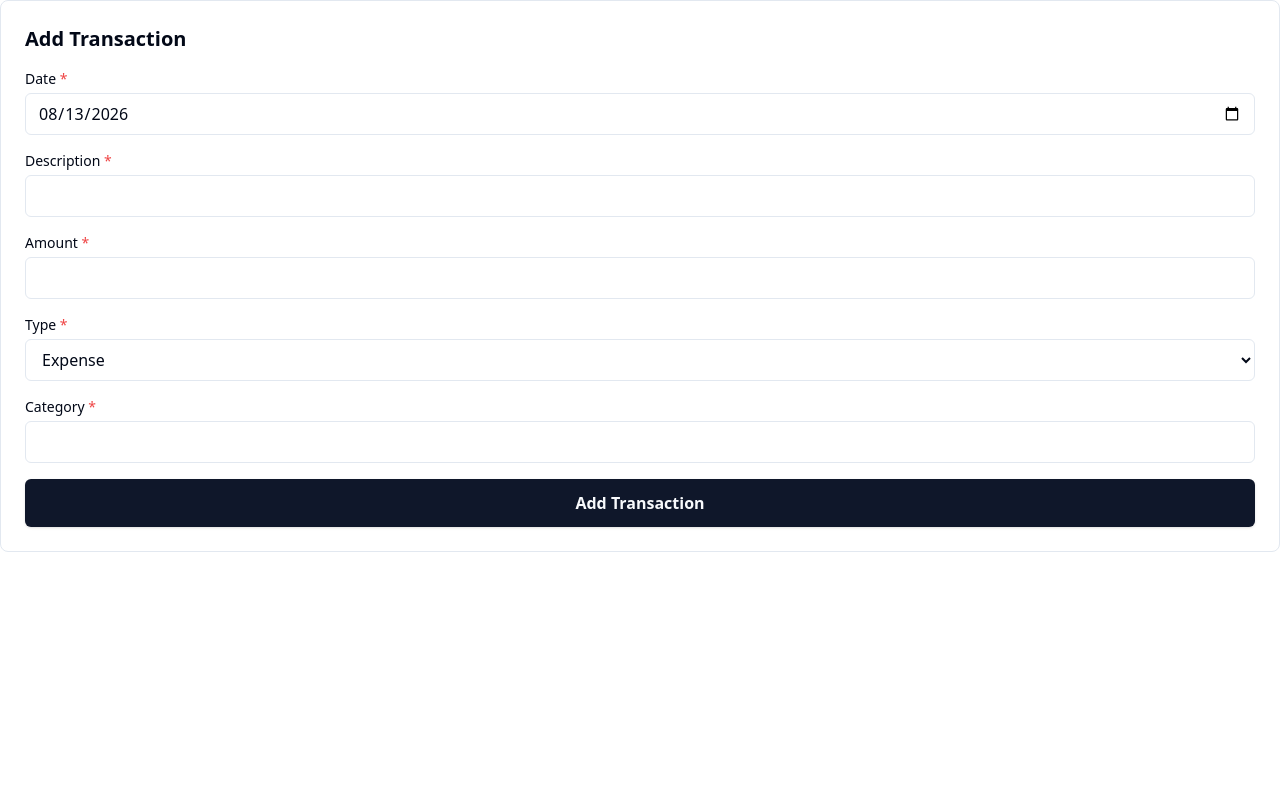
Test case: TransactionForm › validates invalid amounts
The width and height of the screenshot is (1280, 800).
// Clear and leave empty
Clear the number field labelled "Amount *" at (640, 278), box [25, 257, 1255, 299]
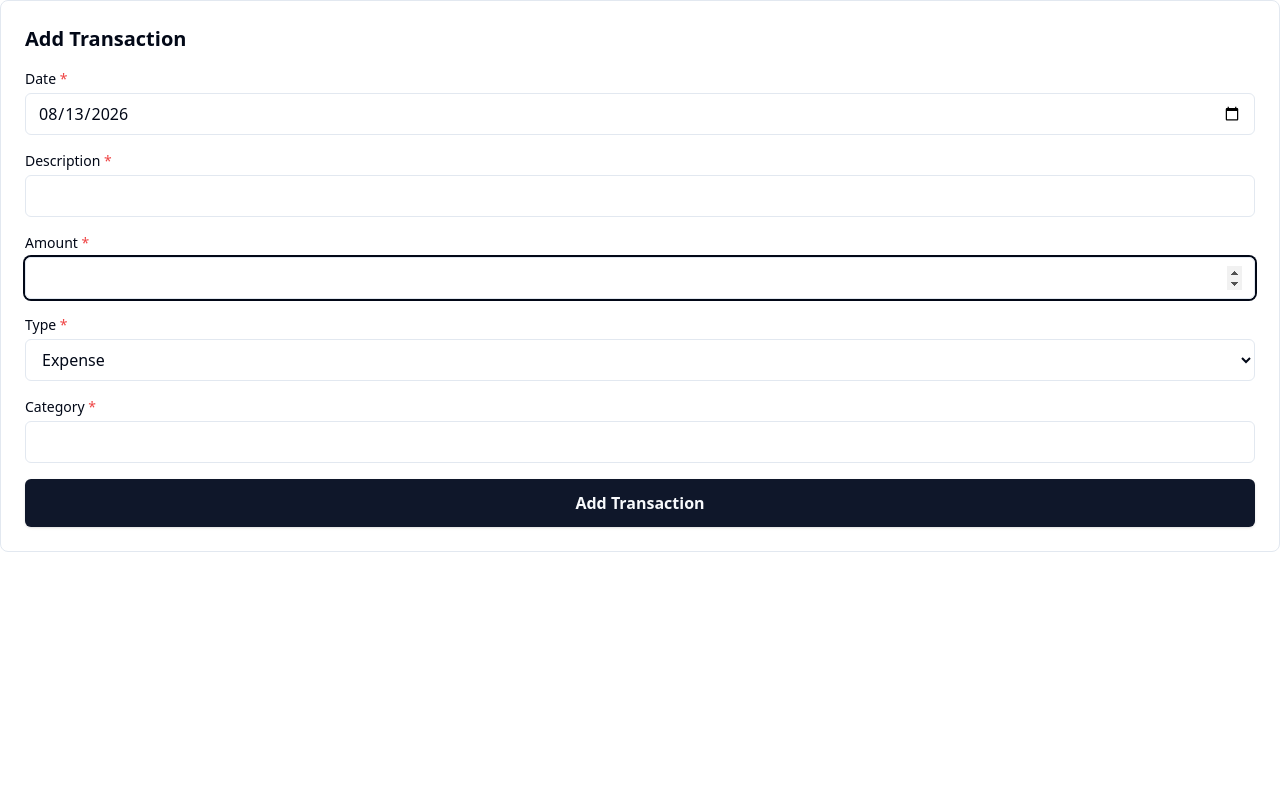
Click the button "Add Transaction".
click(640, 503)  # box [25, 479, 1255, 527]
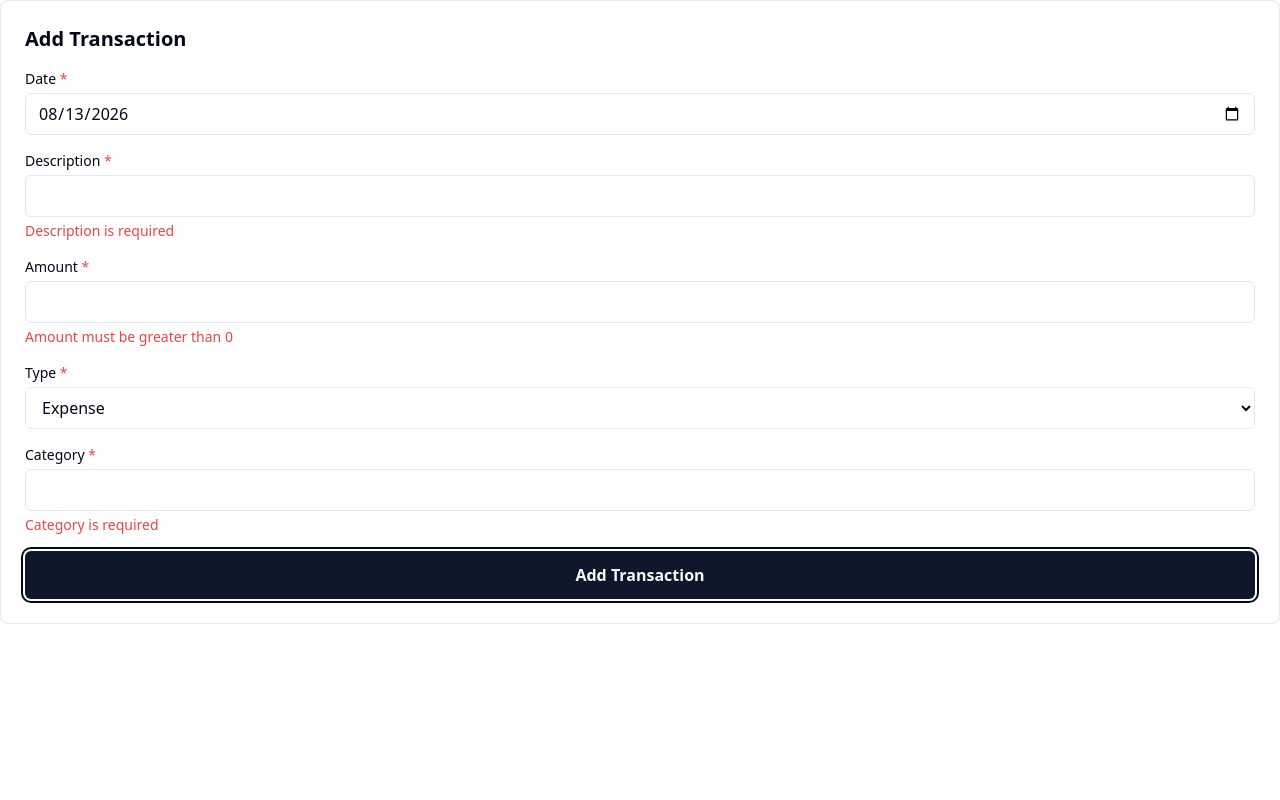
Check: the text "Amount must be greater than 0" is shown, box [25, 327, 233, 346]
